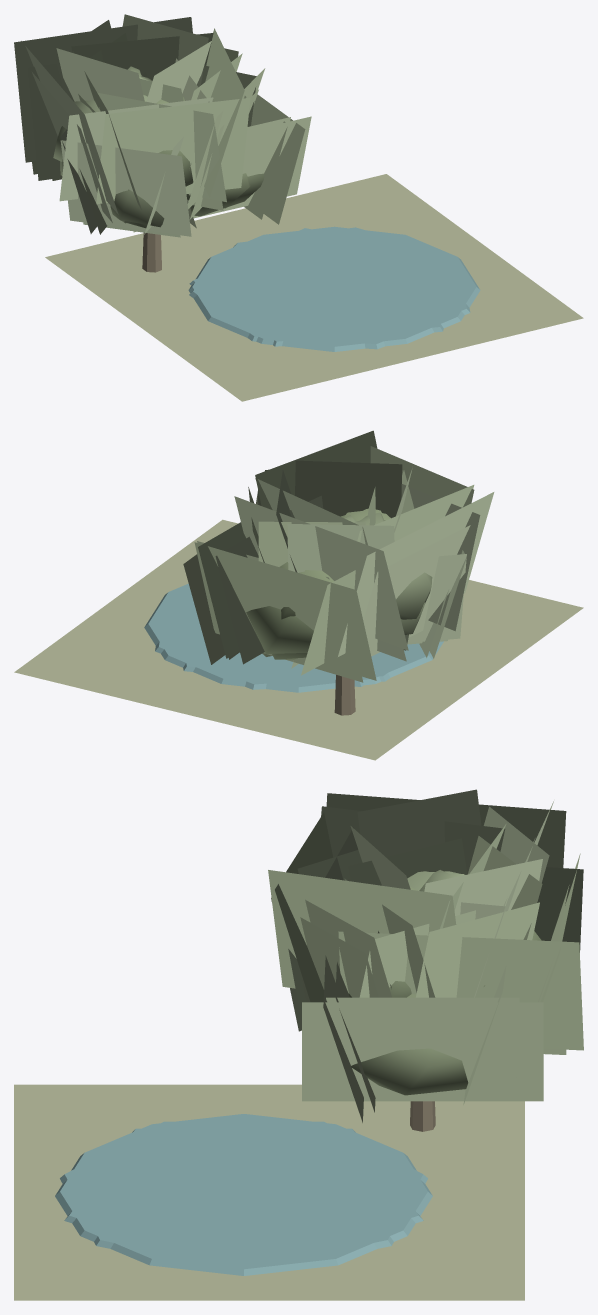
The picture shows the model from 3 angles, top to bottom: view 1: azimuth 30°, elevation 25°; view 2: azimuth 150°, elevation 25°; view 3: azimuth 270°, elevation 25°; orthographic projection. The views are drawn at different scales.
Parts seen in each view (by area): view 1: Near, Mid, Far; view 2: Near, Mid, Far; view 3: Near, Mid, Far.
Part boxes in pixels (x1,y1,x2,y2): Near: [27, 14, 583, 401]; Mid: [14, 17, 470, 349]; Far: [128, 173, 456, 346]; Near: [14, 430, 583, 760]; Mid: [155, 469, 494, 689]; Far: [169, 562, 409, 686]; Near: [14, 789, 583, 1300]; Mid: [60, 793, 583, 1268]; Far: [64, 931, 541, 1268].
Bounding box in the file's own units: 1.11 × 0.6276 × 1.12.
